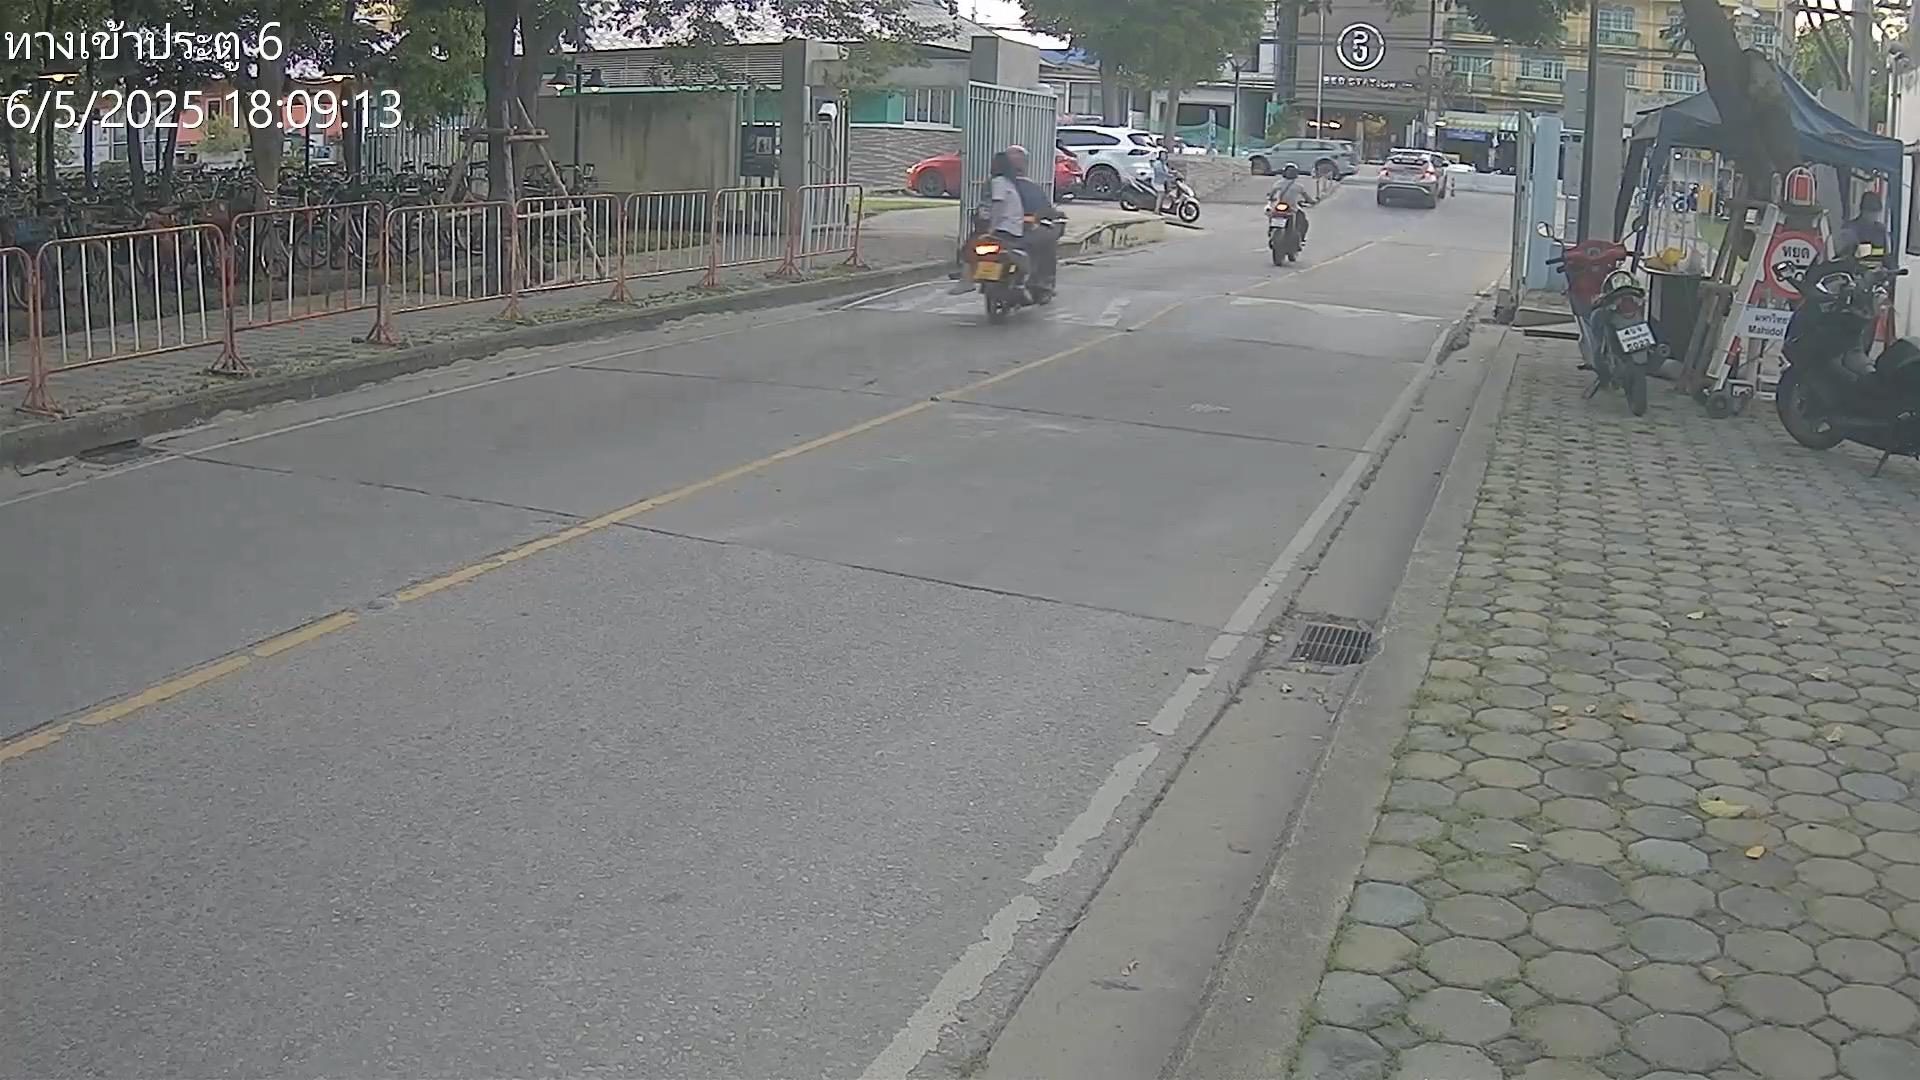With-Helmet: (1005, 144, 1031, 175)
